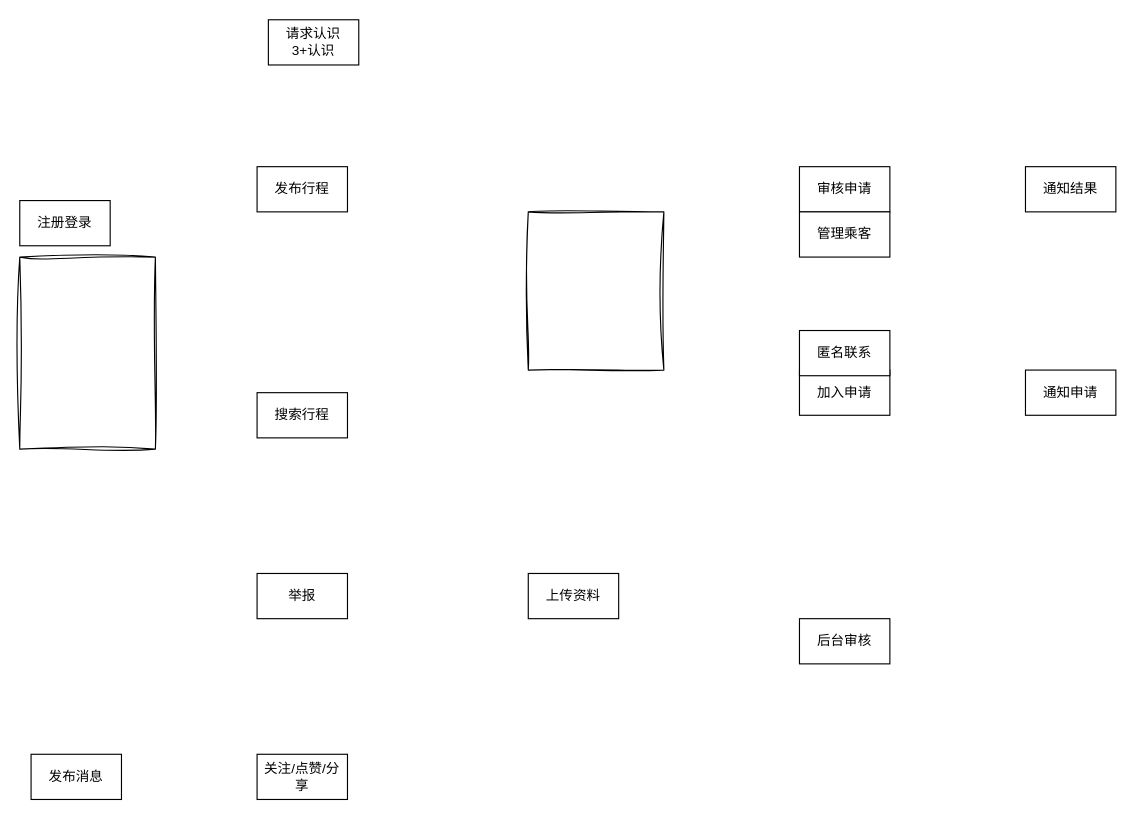
The diagram is 1136 pixels wide and 819 high, and some of its shapes have lost their labels. Here are the shapes that lost their labels. From the top down, the centre of each, then its label:
At point 595,290: "行程 +发布人id +出发时间范围 +出发城市 +出发地点 +目的城市 +目的地点 +备注 +座位".
At point 87,352: "用户 +昵称 +真实姓名 +性别 +身份证号 +手机号 +地区 +注册日期 +权限 +状态 +评分".
